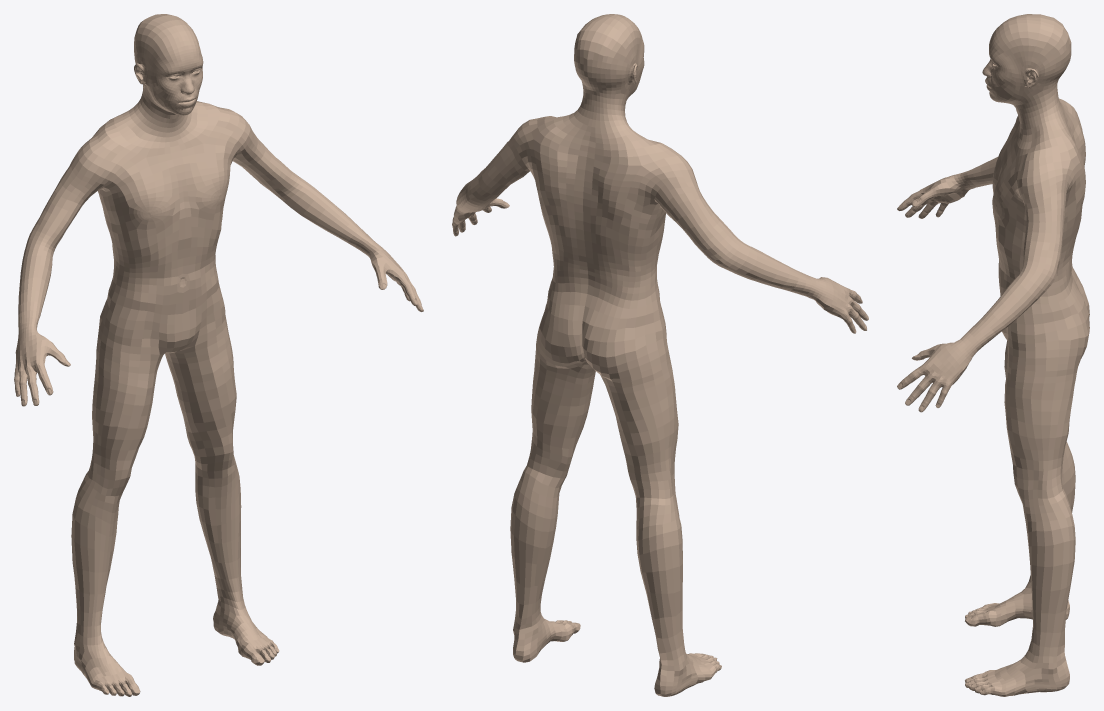
Rendered from body.glb.
The picture shows the model from 3 angles, left to right: view 1: azimuth 30°, elevation 25°; view 2: azimuth 150°, elevation 25°; view 3: azimuth 270°, elevation 25°; orthographic projection.
Visible parts, largest first — view 1: lean; view 2: lean; view 3: lean.
Boxes of the visible parts, left/top/right/bottom form: lean: left=14, top=14, right=423, bottom=696; lean: left=452, top=14, right=868, bottom=696; lean: left=897, top=14, right=1089, bottom=696.
Size of the model in its own units: 11.33 by 17.3 by 4.73.
